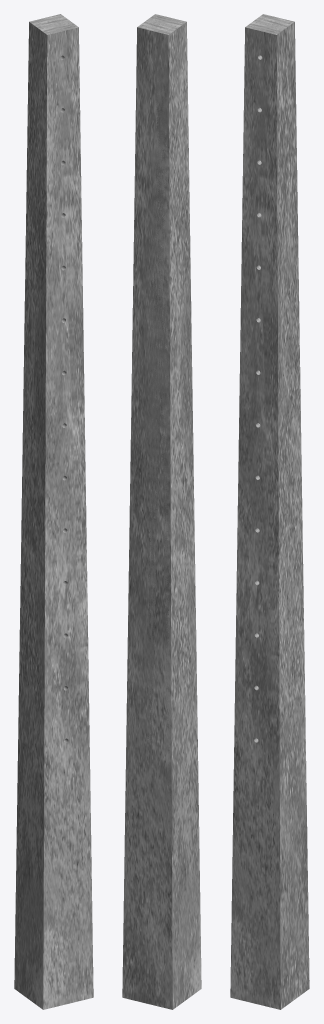
File: lightpole.fbx
3 views of the same model, side by side, from view 1: azimuth 30°, elevation 25°; view 2: azimuth 150°, elevation 25°; view 3: azimuth 330°, elevation 25° (orthographic).
Parts seen in each view (by area): view 1: pCube15; view 2: pCube15; view 3: pCube15.
Part boxes in pixels (x1,y1,x2,y2): pCube15: (14, 14, 93, 1009); pCube15: (122, 14, 201, 1009); pCube15: (230, 14, 309, 1009).
Bounding box in the file's own units: 2.01 × 36.96 × 2.
1 material, 1 textured.
